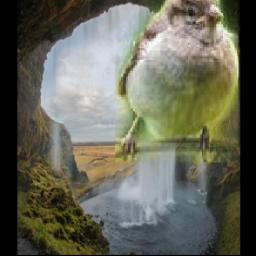Sparrow: (115, 0, 239, 163)
